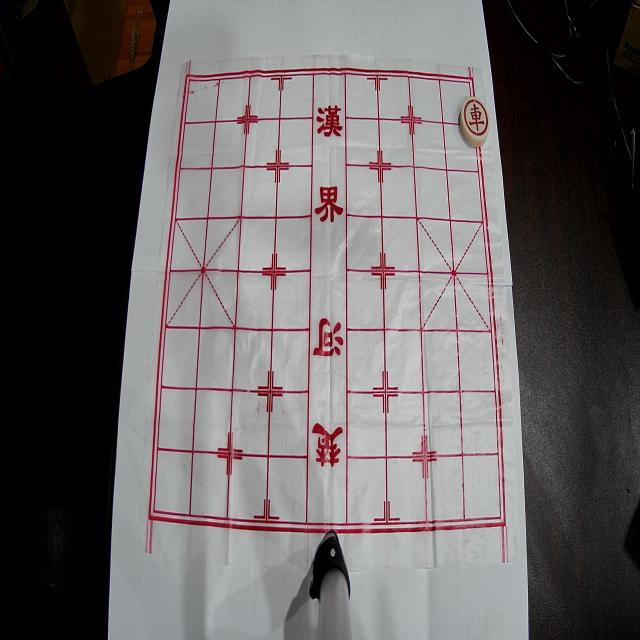red-chariot: (460, 97, 490, 147)
